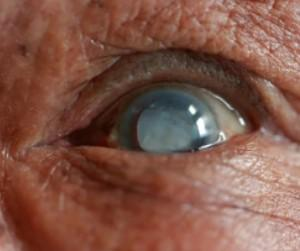eye: (116, 90, 218, 154)
